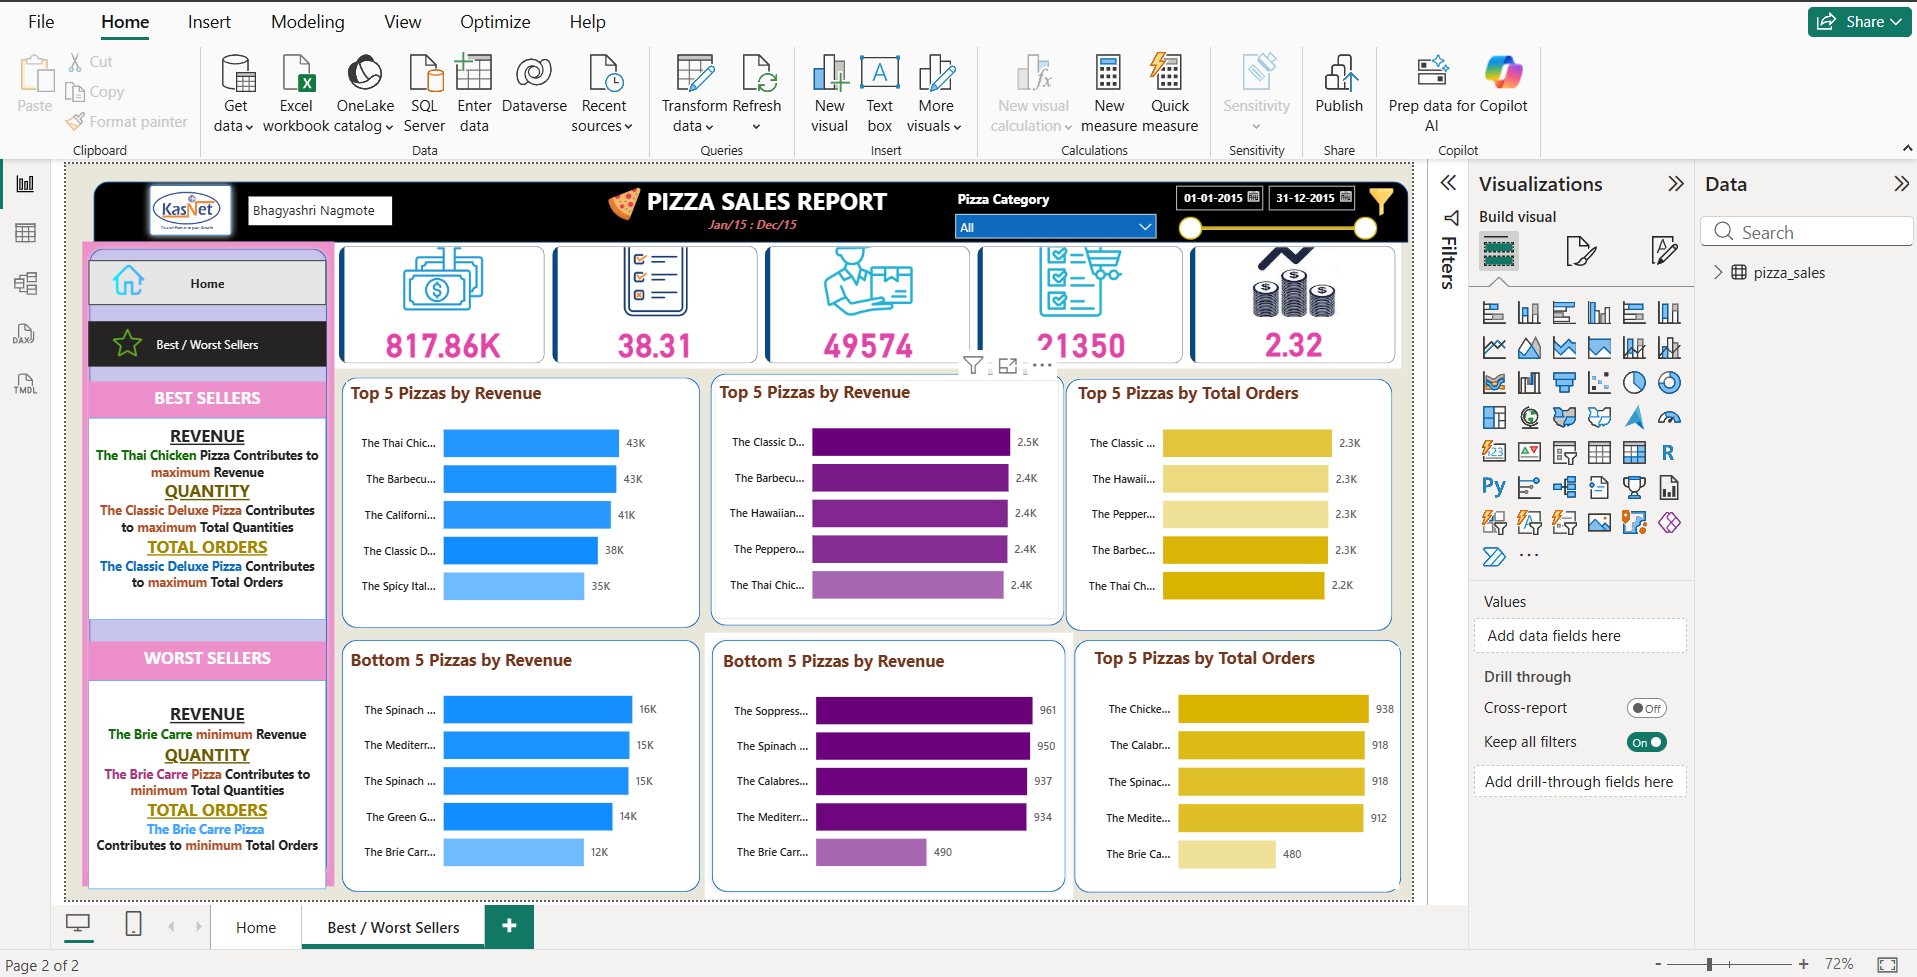

Layout of this report page (visuals, bound fields, positions):
{"tool":"powerbi","page":{"name":"Best / Worst Sellersr","canvas":[1500,820],"ordinal":1},"visuals":[{"type":"cardVisual","fields":{"Data":["pizza_sales.Total Renevue","pizza_sales.Avg Order Vavle","pizza_sales.Total Pizzas Sold","pizza_sales.Total Orders","pizza_sales.Avg Pizzas Per Order"]},"box":[298.7,86.7,1187.6,142],"z":0},{"type":"shape","box":[30.6,19.5,1465.1,68.2],"z":1000},{"type":"textbox","box":[580.9,18.4,400.2,49.8],"z":2000},{"type":"textbox","box":[710,53.5,271.1,51.6],"z":3000},{"type":"image","box":[574.4,21.4,97.3,47.5],"z":4000},{"type":"shape","box":[18.5,86.8,280.6,718],"z":5000},{"type":"textbox","box":[25,242.5,265,52.5],"z":6000},{"type":"textbox","box":[25,282.5,265,225],"z":7000},{"type":"textbox","box":[25,532,265,52.5],"z":8000},{"type":"textbox","box":[25,575,265,232.5],"z":9000},{"type":"slicer","fields":{"Values":["pizza_sales.pizza_category"]},"box":[980.2,23.7,244.5,59.3],"z":10000},{"type":"slicer","fields":{"Values":["pizza_sales.order_date"]},"box":[1224.7,14.2,244.5,109.2],"z":11000},{"type":"shape","box":[299.1,230.2,415,295],"z":12000},{"type":"shape","box":[299.1,522.2,415,296.7],"z":13000},{"type":"shape","title":"Top 5 Pizzas by Revenue","box":[709.7,225.5,410,296.7],"z":14000},{"type":"shape","box":[712,522.2,410,296.7],"z":15000},{"type":"shape","box":[1106.5,230.5,379.9,296.9],"z":16000},{"type":"shape","title":"op 5 Pizzas by Quantity","box":[1115,522.5,380,297.5],"z":17000},{"type":"barChart","title":"Top 5 Pizzas by Revenue","fields":{"Category":["pizza_sales.pizza_name"],"Y":["pizza_sales.Total Renevue"]},"box":[311.9,241.8,383.9,265.8],"z":18000},{"type":"barChart","title":"Bottom 5 Pizzas by Revenue","fields":{"Category":["pizza_sales.pizza_name"],"Y":["pizza_sales.Total Renevue"]},"box":[311.7,538.5,383.6,265.6],"z":19000},{"type":"barChart","title":"Top 5 Pizzas by Revenue","fields":{"Category":["pizza_sales.pizza_name"],"Y":["pizza_sales.Total Pizzas Sold"]},"box":[722.9,241.6,383.6,265.6],"z":20000},{"type":"barChart","title":"Bottom 5 Pizzas by Revenue","fields":{"Category":["pizza_sales.pizza_name"],"Y":["pizza_sales.Total Pizzas Sold"]},"box":[727.2,540.8,382.1,263.9],"z":21000},{"type":"barChart","title":"Top 5 Pizzas by Total Orders","fields":{"Category":["pizza_sales.pizza_name"],"Y":["pizza_sales.Total Orders"]},"box":[1122.5,242.5,347.5,265],"z":22000},{"type":"barChart","title":"Top 5 Pizzas by Total Orders","fields":{"Category":["pizza_sales.pizza_name"],"Y":["pizza_sales.Total Orders"]},"box":[1140,537.5,345,270],"z":23000},{"type":"pageNavigator","box":[25,175,265,50],"z":24000},{"type":"pageNavigator","box":[25,107.5,265,50],"z":25000},{"type":"image","box":[47.5,172.5,42.5,52.5],"z":26000},{"type":"image","box":[47.5,100,45,57.5],"z":27000},{"type":"image","box":[1445,22.5,40,40],"z":28000},{"type":"shape","box":[85,15,107.5,72.5],"z":29000},{"type":"image","box":[92.5,17.5,85,67.5],"z":30000},{"type":"textbox","box":[203.3,36.2,160.2,32],"z":31000}]}

Visuals, with their boxes on the page's 1500x820 design canvas (x1, y1, x2, y2). These are canvas units, not pixel positions in the 1917x977 screenshot, which may show the page scaled, cropped or inside an application window:
cardVisual - pizza_sales.Total Renevue x pizza_sales.Avg Order Vavle: box(299, 87, 1486, 229)
shape: box(31, 20, 1496, 88)
textbox: box(581, 18, 981, 68)
textbox: box(710, 54, 981, 105)
image: box(574, 21, 672, 69)
shape: box(18, 87, 299, 805)
textbox: box(25, 242, 290, 295)
textbox: box(25, 282, 290, 508)
textbox: box(25, 532, 290, 584)
textbox: box(25, 575, 290, 808)
slicer - pizza_sales.pizza_category: box(980, 24, 1225, 83)
slicer - pizza_sales.order_date: box(1225, 14, 1469, 123)
shape: box(299, 230, 714, 525)
shape: box(299, 522, 714, 819)
"Top 5 Pizzas by Revenue" shape: box(710, 226, 1120, 522)
shape: box(712, 522, 1122, 819)
shape: box(1106, 230, 1486, 527)
"op 5 Pizzas by Quantity" shape: box(1115, 522, 1495, 820)
"Top 5 Pizzas by Revenue" barChart: box(312, 242, 696, 508)
"Bottom 5 Pizzas by Revenue" barChart: box(312, 538, 695, 804)
"Top 5 Pizzas by Revenue" barChart: box(723, 242, 1106, 507)
"Bottom 5 Pizzas by Revenue" barChart: box(727, 541, 1109, 805)
"Top 5 Pizzas by Total Orders" barChart: box(1122, 242, 1470, 508)
"Top 5 Pizzas by Total Orders" barChart: box(1140, 538, 1485, 808)
pageNavigator: box(25, 175, 290, 225)
pageNavigator: box(25, 108, 290, 158)
image: box(48, 172, 90, 225)
image: box(48, 100, 92, 158)
image: box(1445, 22, 1485, 62)
shape: box(85, 15, 192, 88)
image: box(92, 18, 178, 85)
textbox: box(203, 36, 364, 68)
